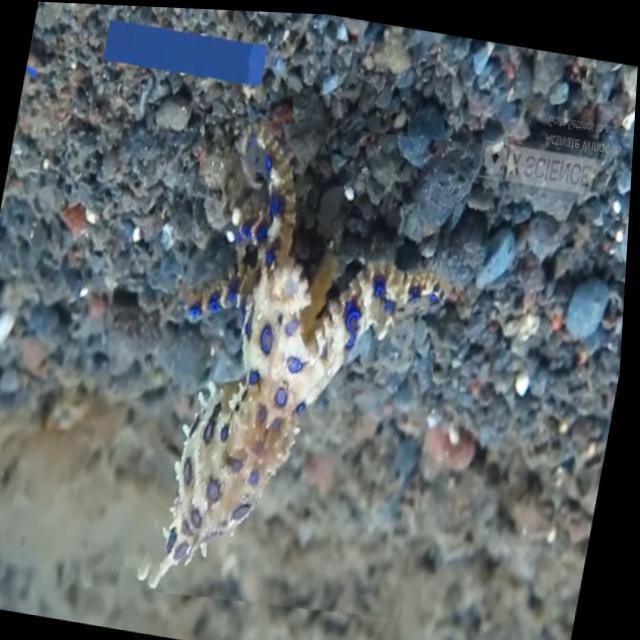blue_ringed_octopus: (132, 99, 483, 625)
